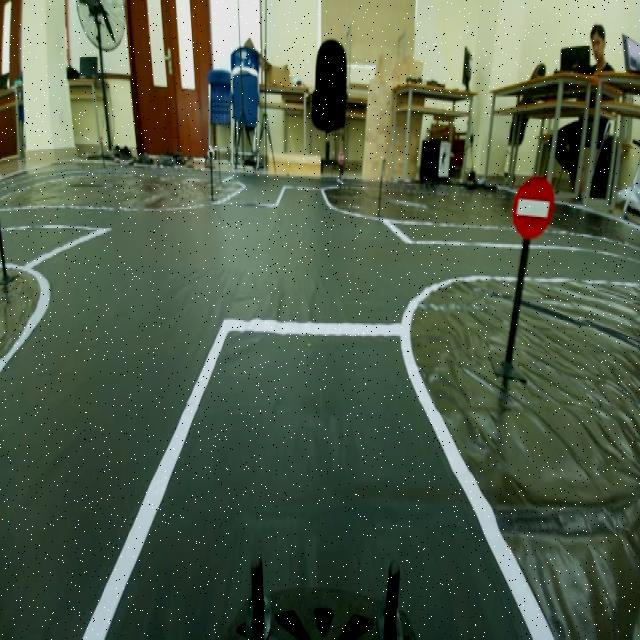no_entry: (511, 168, 557, 250)
